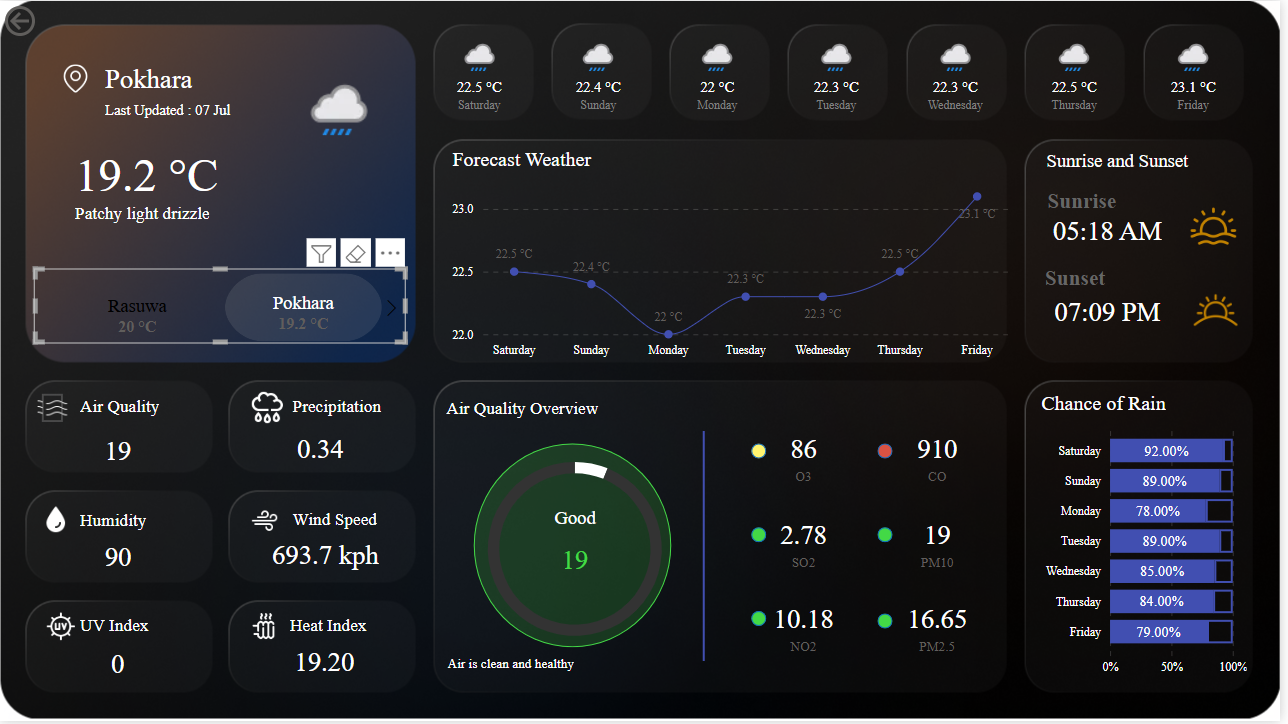

What the dashboard file says about the page in this screenshot:
{"tool":"powerbi","page":{"name":"Page 1","canvas":[1280,720],"ordinal":0},"visuals":[{"type":"shape","box":[473.8,442.5,197.5,203.8],"z":0},{"type":"advancedSlicerVisual","fields":{"Values":["Locations.location.name"]},"box":[33.3,267,373.3,75.6],"z":1000},{"type":"shape","box":[75.6,147.8,211.1,48.9],"z":2000},{"type":"shape","box":[75.6,196.7,297.8,32.2],"z":3000},{"type":"shape","box":[105,58.8,138.8,38.8],"z":4000},{"type":"image","box":[48.8,58.8,53.8,37.5],"z":5000},{"type":"shape","box":[105,97.5,137.5,22.5],"z":6000},{"type":"cardVisual","fields":{"Data":["Min(Current.current.condition.icon)"]},"box":[286.7,50,110,93.3],"z":7000},{"type":"image","box":[35,500,41,37],"z":8000},{"type":"shape","box":[80,507,105,25],"z":9000},{"type":"card","fields":{"Values":["Sum(Current.current.humidity)"]},"box":[74,532,89,47],"z":10000},{"type":"image","box":[243.7,500.7,42.2,37.4],"z":11000},{"type":"shape","box":[292,506.7,105,25.3],"z":12000},{"type":"card","fields":{"Values":["_Measures.Wind_Speed"]},"box":[233,527,186,52],"z":13000},{"type":"image","box":[29,383,47,48],"z":14000},{"type":"shape","box":[80,394,105,25],"z":15000},{"type":"card","fields":{"Values":["Sum(Current.current.air_quality.pm10)"]},"box":[80,431,76,37],"z":16000},{"type":"image","box":[243,383,50,48],"z":17000},{"type":"shape","box":[293,394,105,25],"z":18000},{"type":"card","fields":{"Values":["Sum(Current.current.precip_mm)"]},"box":[287,431,66,34],"z":19000},{"type":"image","box":[41,605,39,40],"z":20000},{"type":"shape","box":[80,612,105,25],"z":21000},{"type":"card","fields":{"Values":["Sum(Current.current.uv)"]},"box":[94,645,48,36],"z":22000},{"type":"actionButton","box":[0,0,100,40],"z":23000},{"type":"image","box":[242,605,44,40],"z":24000},{"type":"shape","box":[290,612,105,25],"z":25000},{"type":"card","fields":{"Values":["Sum(Current.current.heatindex_c)"]},"box":[287,640,74,41],"z":26000},{"type":"advancedSlicerVisual","fields":{"Values":["Forecast_Day.Forecast_Day"]},"box":[418.9,25.6,841.1,104.4],"z":27000},{"type":"lineChart","title":"Forecast Weather","fields":{"Category":["Forecast_Day.Forecast_Day"],"Y":["Sum(Forecast_Day.forecast.forecastday.day.avgtemp_c)"]},"box":[447.1,147.1,565.7,217.1],"z":28000},{"type":"shape","box":[1046.2,147.5,151.2,25],"z":29000},{"type":"card","fields":{"Values":["Min(Forecast_Day.Sunrise_Date)"]},"box":[1045,213.8,125,31.2],"z":30000},{"type":"card","fields":{"Values":["Min(Forecast_Day.Sunset_Date)"]},"box":[1045,296.2,125,30],"z":31000},{"type":"shape","box":[1047.5,187.5,125,25],"z":32000},{"type":"shape","box":[1044.5,265.5,125,25],"z":33000},{"type":"image","box":[1184.5,197.3,56.4,55.5],"z":34000},{"type":"image","box":[1180,274.5,70.9,68.2],"z":35000},{"type":"hundredPercentStackedBarChart","title":"Chance of Rain","fields":{"Y":["Sum(Forecast_Day.forecast.forecastday.day.daily_chance_of_rain)","_Measures.Left_Value_Rain"],"Category":["Forecast_Day.Forecast_Day"]},"box":[1035.7,391.4,215.7,290],"z":36000},{"type":"card","fields":{"Values":["Sum(Current.current.air_quality.co)"]},"box":[892.5,420,90,70],"z":37000},{"type":"shape","box":[446.7,395.6,166.7,24.4],"z":38000},{"type":"card","fields":{"Values":["Sum(Current.current.air_quality.pm10)"]},"box":[892.5,506.2,90,70],"z":39000},{"type":"card","fields":{"Values":["Sum(Current.current.air_quality.pm2_5)"]},"box":[892.5,590,90,70],"z":40000},{"type":"card","fields":{"Values":["Sum(Current.current.air_quality.o3)"]},"box":[758.8,420,90,70],"z":41000},{"type":"card","fields":{"Values":["Sum(Current.current.air_quality.so2)"]},"box":[758.8,506.2,90,70],"z":42000},{"type":"card","fields":{"Values":["Sum(Current.current.air_quality.no2)"]},"box":[758.8,590,90,70],"z":43000},{"type":"shape","box":[877.5,526.2,15,15],"z":44000},{"type":"shape","box":[877.5,442.5,15,15],"z":45000},{"type":"shape","box":[877.5,612.5,15,15],"z":46000},{"type":"shape","box":[751.2,442.5,15,15],"z":47000},{"type":"shape","box":[751.2,526.2,15,15],"z":48000},{"type":"shape","box":[751.2,610,15,15],"z":49000},{"type":"shape","box":[628.8,430,150,230],"z":50000},{"type":"card","fields":{"Values":["Sum(Current.current.air_quality.pm10)"]},"box":[518.8,506.2,112.5,83.8],"z":51000},{"type":"donutChart","fields":{"Y":["Sum(Current.current.air_quality.pm10)","_Measures.Left_value_PM10"]},"box":[461.2,425,227.5,246.2],"z":52000},{"type":"shape","box":[447.8,651.1,255.6,24.4],"z":53000}]}

Visuals, with their boxes in screenshot pixels (x1, y1, x2, y2), scaled from the page's 1280x720 canvas onto the 1288x724 screenshot:
shape: region(477, 445, 675, 650)
advancedSlicerVisual - Locations.location.name: region(34, 268, 409, 345)
shape: region(76, 149, 288, 198)
shape: region(76, 198, 376, 230)
shape: region(106, 59, 245, 98)
image: region(49, 59, 103, 97)
shape: region(106, 98, 244, 121)
cardVisual - Min(Current.current.condition.icon): region(288, 50, 399, 144)
image: region(35, 503, 76, 540)
shape: region(80, 510, 186, 535)
card - Sum(Current.current.humidity): region(74, 535, 164, 582)
image: region(245, 503, 288, 541)
shape: region(294, 510, 399, 535)
card - _Measures.Wind_Speed: region(234, 530, 422, 582)
image: region(29, 385, 76, 433)
shape: region(80, 396, 186, 421)
card - Sum(Current.current.air_quality.pm10): region(80, 433, 157, 471)
image: region(245, 385, 295, 433)
shape: region(295, 396, 400, 421)
card - Sum(Current.current.precip_mm): region(289, 433, 355, 468)
image: region(41, 608, 80, 649)
shape: region(80, 615, 186, 641)
card - Sum(Current.current.uv): region(95, 649, 143, 685)
actionButton: region(0, 0, 101, 40)
image: region(244, 608, 288, 649)
shape: region(292, 615, 397, 641)
card - Sum(Current.current.heatindex_c): region(289, 644, 363, 685)
advancedSlicerVisual - Forecast_Day.Forecast_Day: region(422, 26, 1268, 131)
"Forecast Weather" lineChart: region(450, 148, 1019, 366)
shape: region(1053, 148, 1205, 173)
card - Min(Forecast_Day.Sunrise_Date): region(1052, 215, 1177, 246)
card - Min(Forecast_Day.Sunset_Date): region(1052, 298, 1177, 328)
shape: region(1054, 189, 1180, 214)
shape: region(1051, 267, 1177, 292)
image: region(1192, 198, 1249, 254)
image: region(1187, 276, 1259, 345)
"Chance of Rain" hundredPercentStackedBarChart: region(1042, 394, 1259, 685)
card - Sum(Current.current.air_quality.co): region(898, 422, 989, 493)
shape: region(449, 398, 617, 422)
card - Sum(Current.current.air_quality.pm10): region(898, 509, 989, 579)
card - Sum(Current.current.air_quality.pm2_5): region(898, 593, 989, 664)
card - Sum(Current.current.air_quality.o3): region(764, 422, 854, 493)
card - Sum(Current.current.air_quality.so2): region(764, 509, 854, 579)
card - Sum(Current.current.air_quality.no2): region(764, 593, 854, 664)
shape: region(883, 529, 898, 544)
shape: region(883, 445, 898, 460)
shape: region(883, 616, 898, 631)
shape: region(756, 445, 771, 460)
shape: region(756, 529, 771, 544)
shape: region(756, 613, 771, 628)
shape: region(633, 432, 784, 664)
card - Sum(Current.current.air_quality.pm10): region(522, 509, 635, 593)
donutChart - Sum(Current.current.air_quality.pm10) x _Measures.Left_value_PM10: region(464, 427, 693, 675)
shape: region(451, 655, 708, 679)
